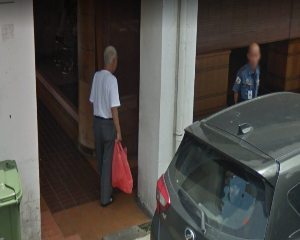stand: (94, 42, 158, 216), (236, 36, 259, 114)
